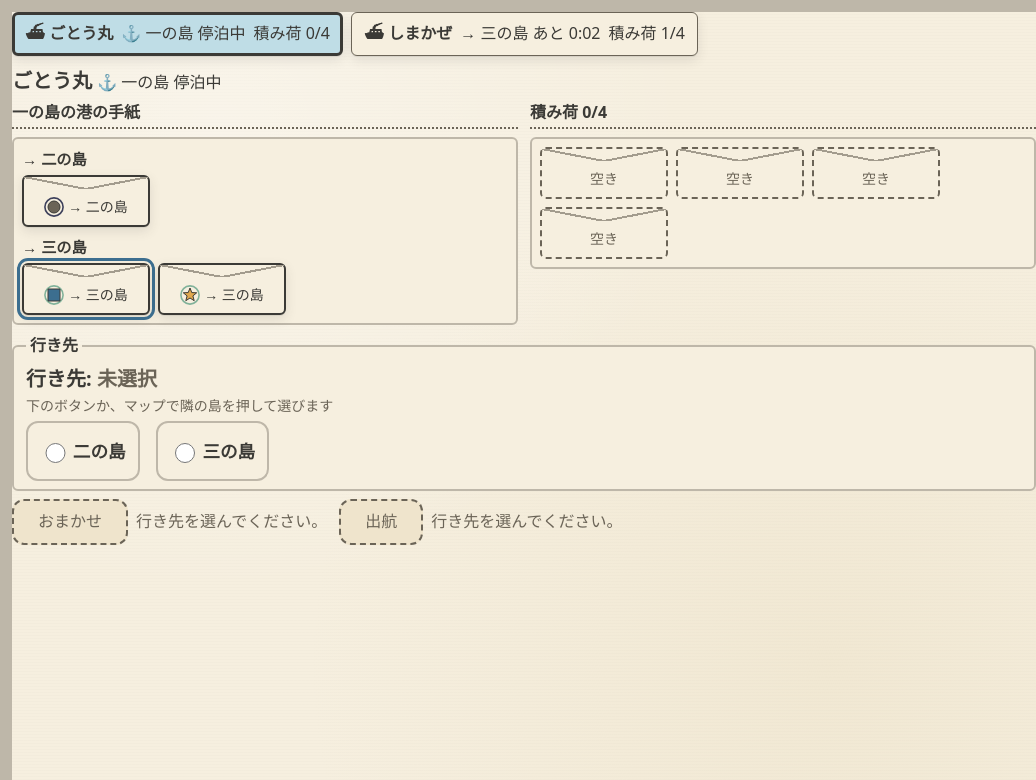
Test: FerryPanel › FP-12 積んだ手紙が消えたら、同じ位置・1 つ前・見出しにフォーカスを移す
This screenshot has width=1036, height=780.
Click the button with aria-label "この内容を記録して！（→ 三の島）を積む".
click(86, 289)  # box 22,263 -> 150,315
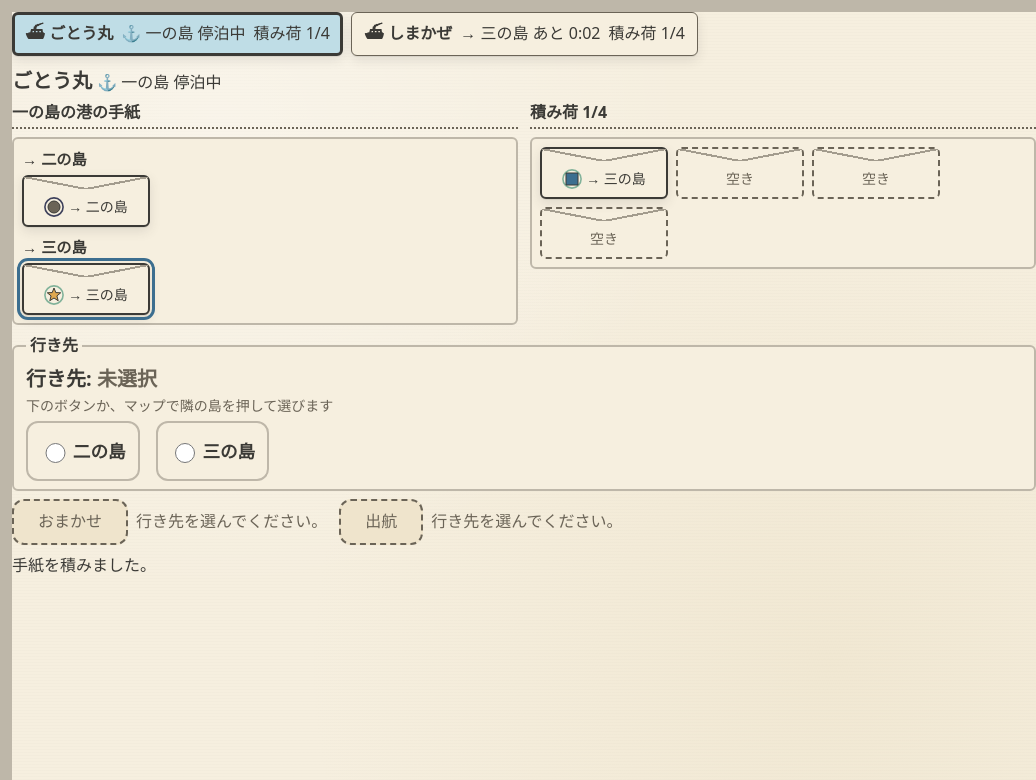
Click the button with aria-label "住民の依頼書（→ 三の島）を積む".
click(86, 289)  # box 22,263 -> 150,315
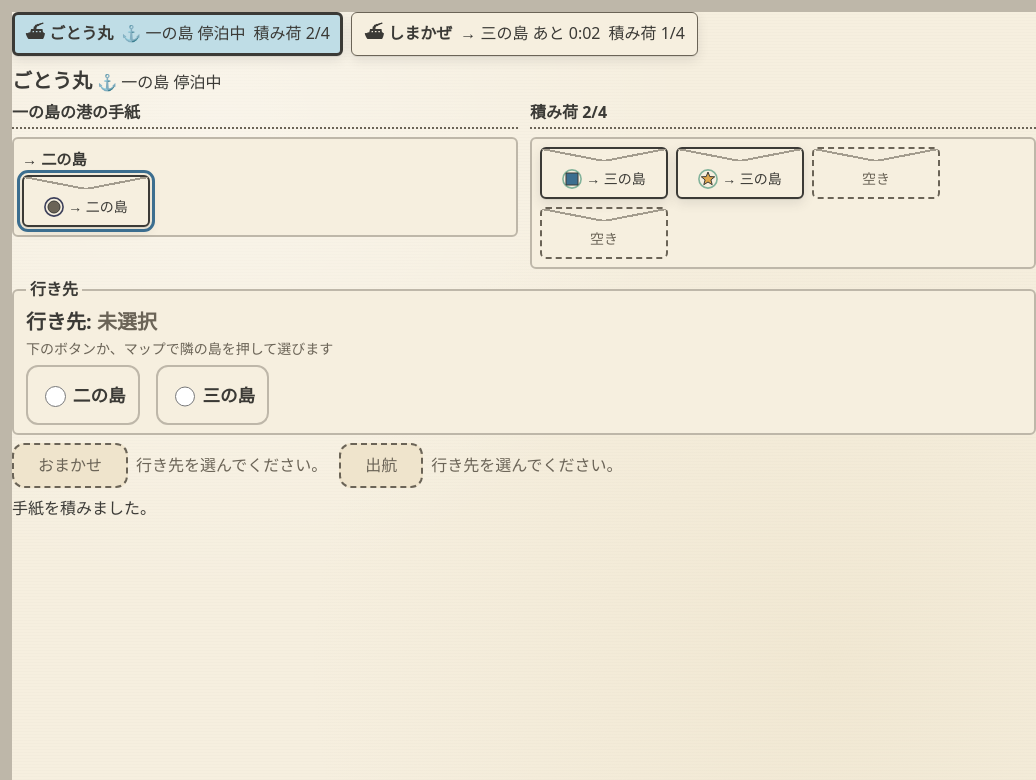
Click the button with aria-label "お元気ですか？（→ 二の島）を積む".
click(86, 201)  # box 22,175 -> 150,227
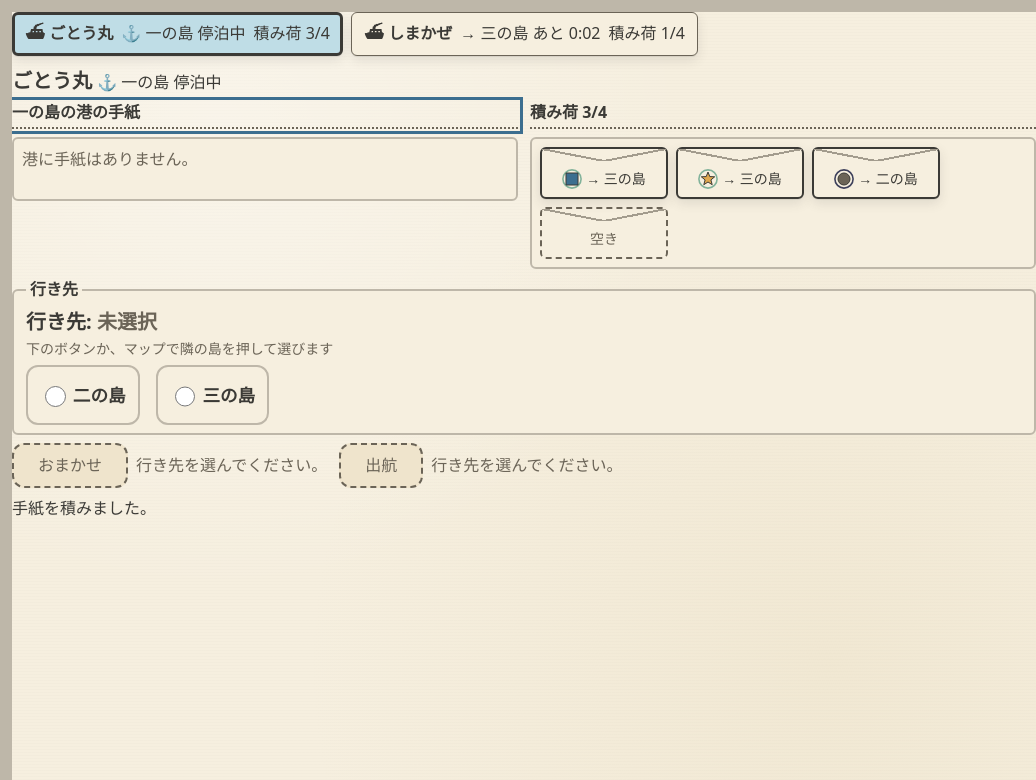
Check: the text "港に手紙はありません。" is shown, box 22,148 -> 198,170
